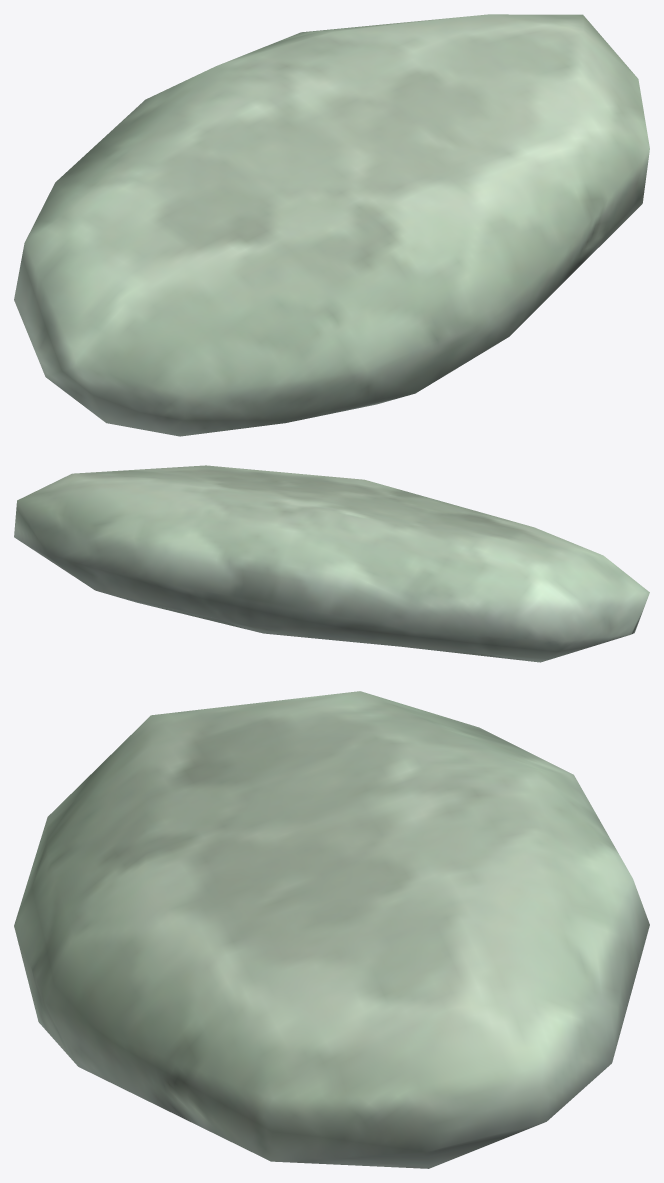
The model's file is obj_stone07.gltf.
The picture shows the model from 3 angles, top to bottom: view 1: azimuth 30°, elevation 25°; view 2: azimuth 150°, elevation 25°; view 3: azimuth 270°, elevation 25°; orthographic projection. The views are drawn at different scales.
Parts seen in each view (by area): view 1: obj_stone07; view 2: obj_stone07; view 3: obj_stone07.
Boxes of the visible parts, bbox=[...] form: obj_stone07: bbox=[14, 14, 649, 436]; obj_stone07: bbox=[14, 465, 649, 662]; obj_stone07: bbox=[14, 691, 649, 1168].
Size of what is drawn, in the model's own units: 1.41 by 0.4456 by 0.8932.
1 material, 1 textured.
